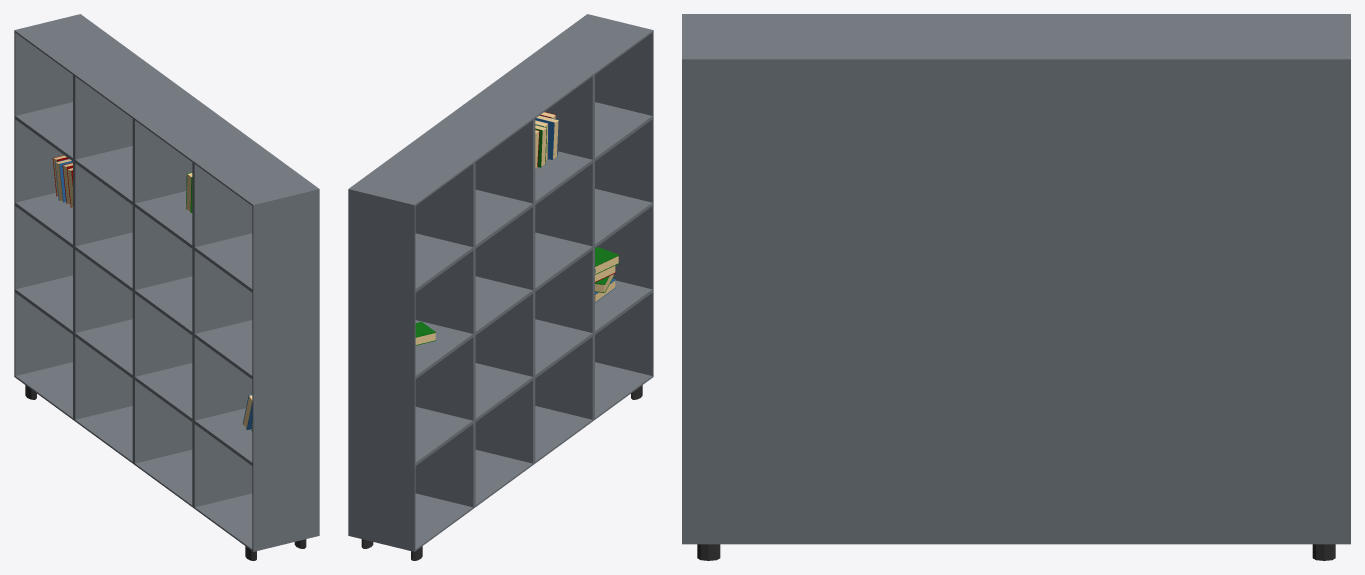
The model's file is shelf_book1.fbx.
3 renders of one model, left to right at view 1: azimuth 30°, elevation 25°; view 2: azimuth 150°, elevation 25°; view 3: azimuth 270°, elevation 25°, orthographic. The views are drawn at different scales.
Visible parts, largest first — view 1: book.007; view 2: book.007; view 3: book.007.
Boxes of the visible parts, bbox=[...] form: book.007: bbox=[14, 14, 319, 560]; book.007: bbox=[348, 14, 653, 560]; book.007: bbox=[682, 14, 1350, 560].
Bounding box in the file's own units: 250 × 40 × 209.
